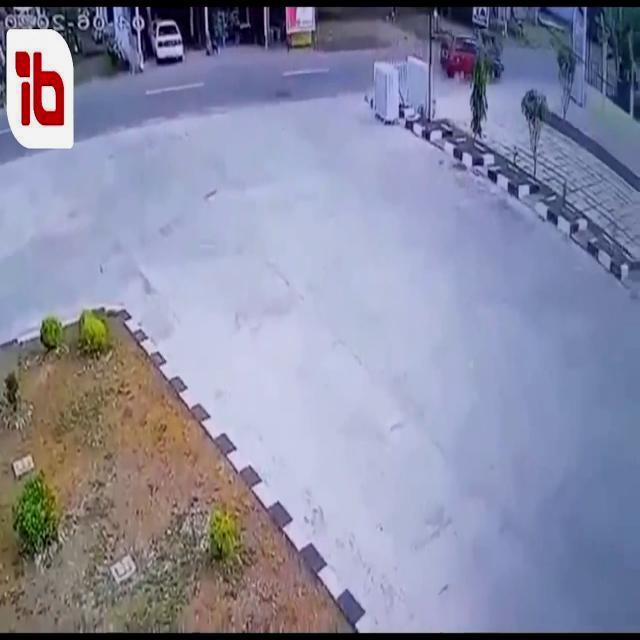accident: (440, 28, 502, 80)
